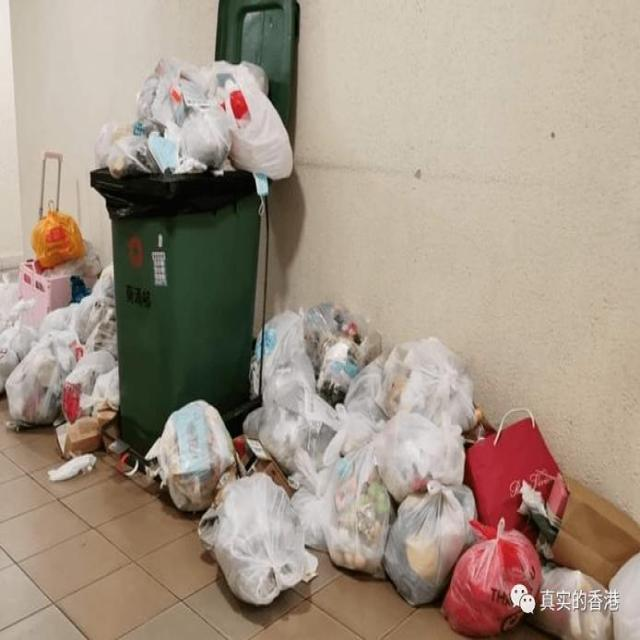garbage: (145, 304, 638, 638), (0, 154, 120, 480)
overflow: (90, 60, 292, 430)
